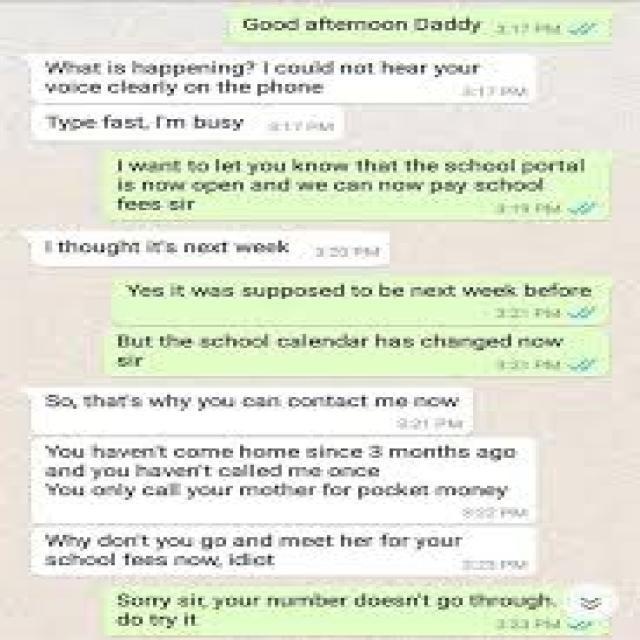scam: (27, 437, 531, 520), (44, 521, 532, 583), (22, 50, 537, 105), (31, 389, 470, 437), (22, 231, 392, 266), (24, 110, 346, 146)
